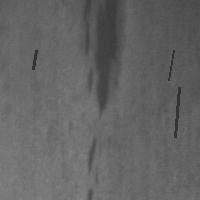inclusion: (82, 1, 123, 120), (81, 134, 104, 198), (173, 85, 181, 139), (166, 48, 175, 82), (31, 48, 38, 71)
